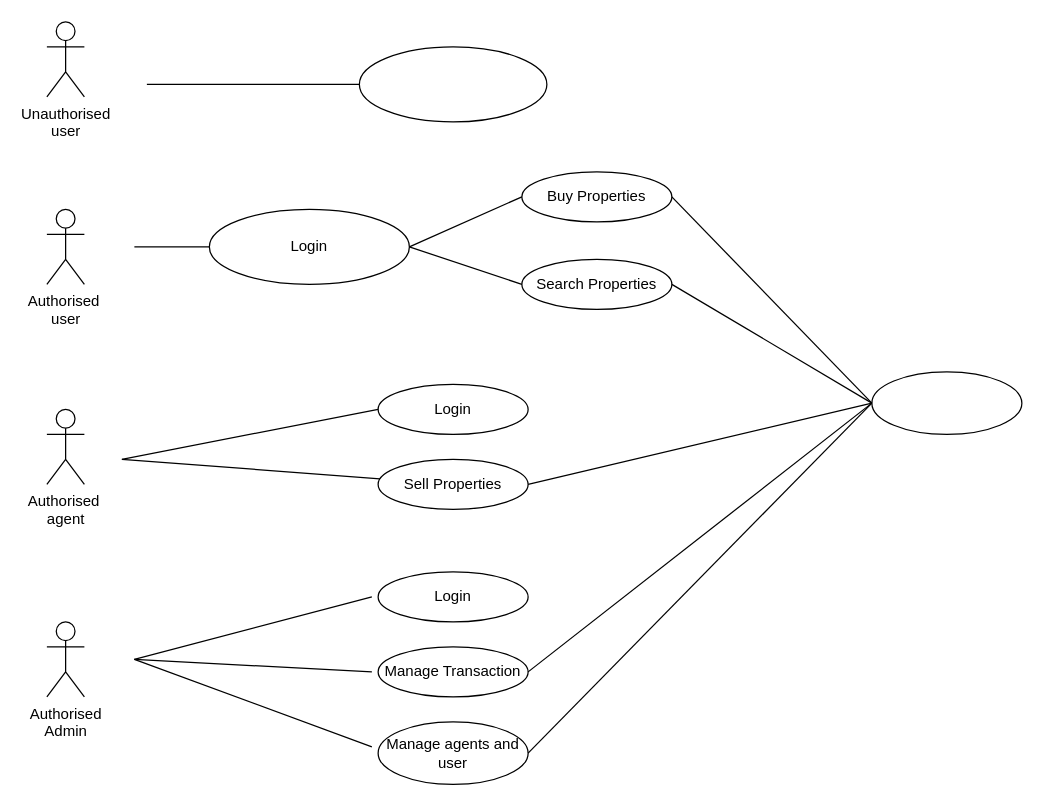
Some shapes in this 1044 by 806 pixel diagram are drawn without their labels. Each missing label, with the centre of its shape:
Application: point (452, 84)
Logout: point (946, 402)
